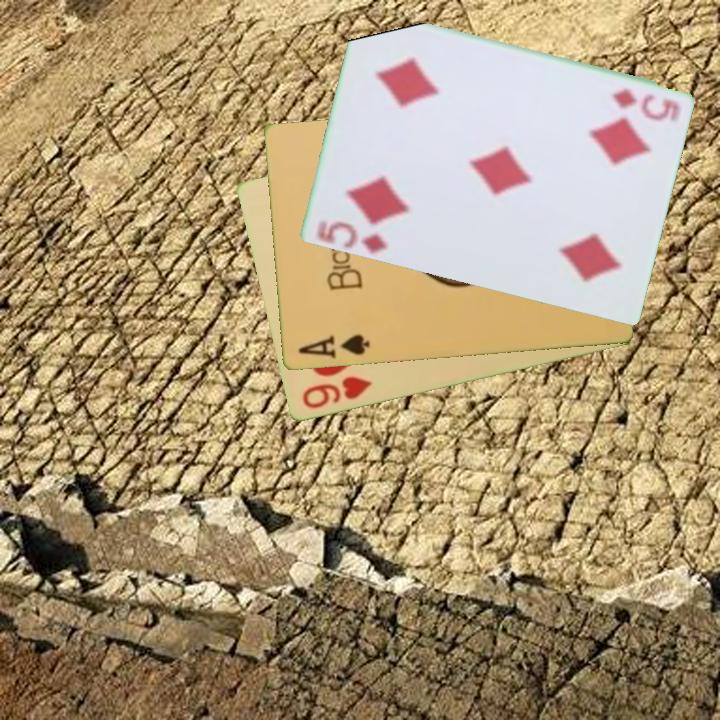5d: (312, 218, 390, 257), (608, 85, 682, 119)
9h: (298, 373, 375, 412)
As: (294, 331, 372, 362)
